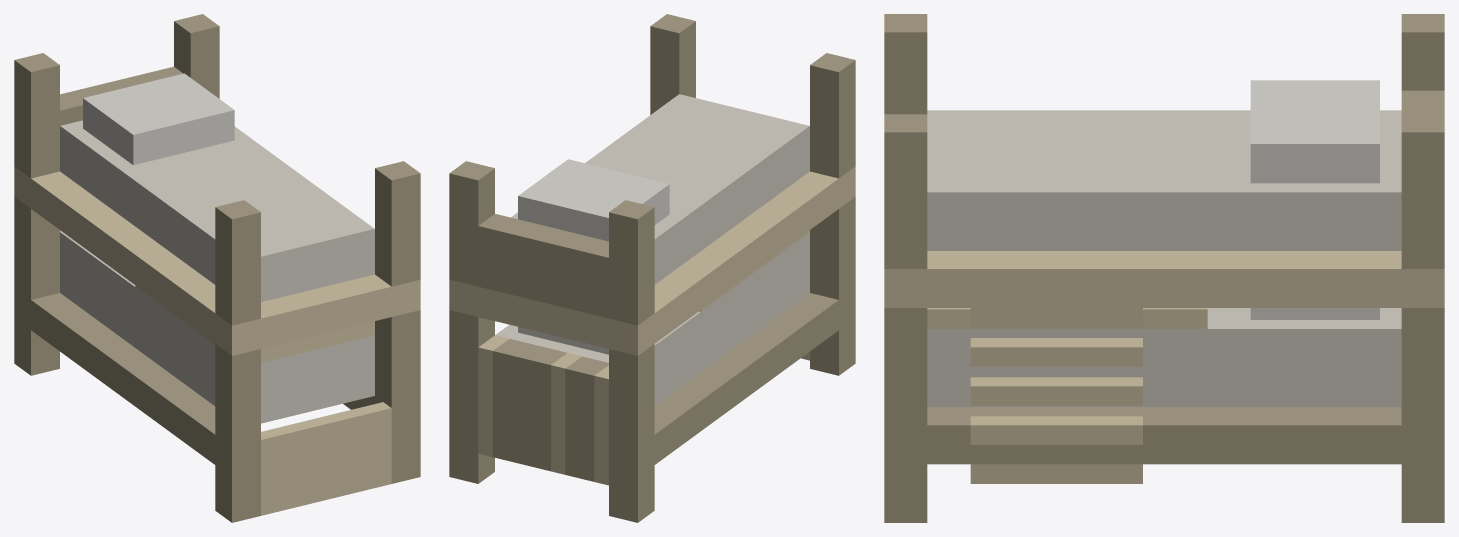
File: litera_pino_01.glb
3 views of the same model, side by side, from view 1: azimuth 30°, elevation 25°; view 2: azimuth 150°, elevation 25°; view 3: azimuth 270°, elevation 25° (orthographic). The views are drawn at different scales.
Parts seen in each view (by area): view 1: litera_pino; view 2: litera_pino; view 3: litera_pino.
Part boxes in pixels (x1,y1,x2,y2): litera_pino: (14,14,420,522); litera_pino: (449,14,855,522); litera_pino: (884,14,1444,522).
Size of the model in its own units: 1 by 1.54 by 2.
